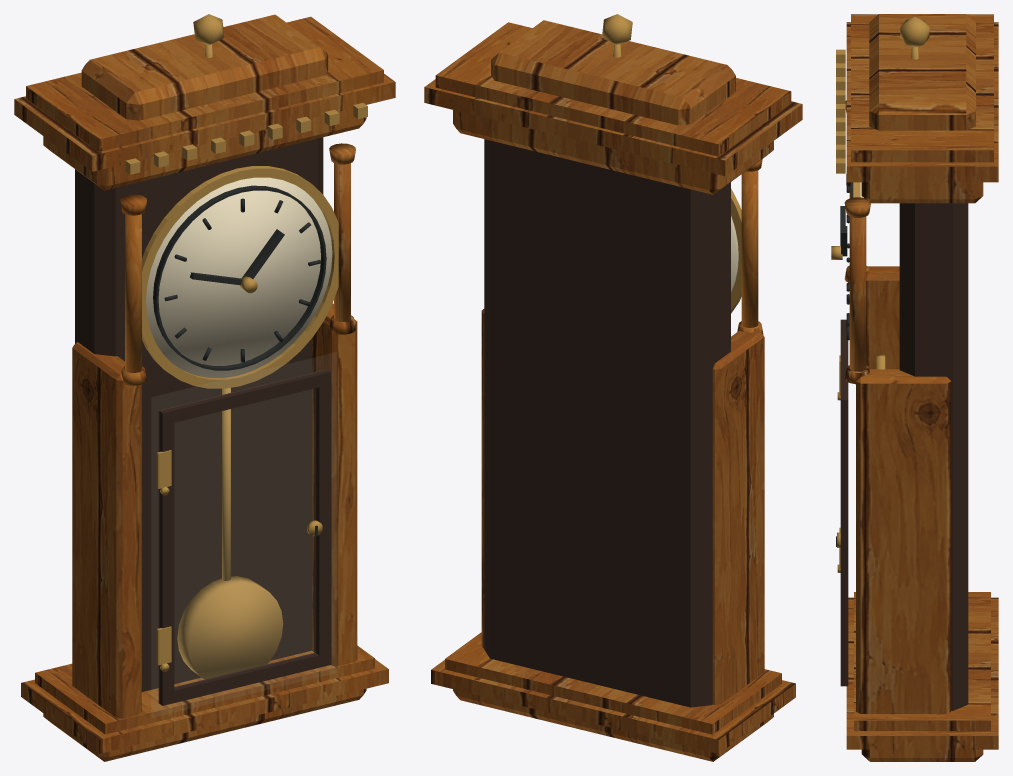
3 views of the same model, side by side, from view 1: azimuth 30°, elevation 25°; view 2: azimuth 150°, elevation 25°; view 3: azimuth 270°, elevation 25° (orthographic). The views are drawn at different scales.
Parts seen in each view (by area): view 1: clockshop_walnut, clockshop_darkwood, clockshop_walnut.001, clockshop_ivory, clockshop_brass, clockshop_darkwood.001, clockshop_ink, clockshop_brass.001; view 2: clockshop_darkwood, clockshop_walnut, clockshop_walnut.001, clockshop_brass.001, clockshop_brass; view 3: clockshop_walnut, clockshop_walnut.001, clockshop_darkwood, clockshop_darkwood.001, clockshop_brass.001, clockshop_ink, clockshop_brass.
Part boxes in pixels (<box>): clockshop_walnut: <box>43,14,366,761</box>; clockshop_darkwood: <box>75,137,323,691</box>; clockshop_walnut.001: <box>14,16,395,753</box>; clockshop_ivory: <box>146,177,332,377</box>; clockshop_brass: <box>142,166,338,679</box>; clockshop_darkwood.001: <box>158,369,330,705</box>; clockshop_ink: <box>153,185,326,370</box>; clockshop_brass.001: <box>114,14,367,758</box>; clockshop_darkwood: <box>484,139,730,707</box>; clockshop_walnut: <box>453,20,773,761</box>; clockshop_walnut.001: <box>424,22,802,753</box>; clockshop_brass.001: <box>471,14,702,758</box>; clockshop_brass: <box>731,188,741,313</box>; clockshop_walnut: <box>856,14,983,761</box>; clockshop_walnut.001: <box>844,14,998,749</box>; clockshop_darkwood: <box>899,203,968,710</box>; clockshop_darkwood.001: <box>840,319,848,686</box>; clockshop_brass.001: <box>836,17,929,572</box>; clockshop_ink: <box>840,174,853,340</box>; clockshop_brass: <box>831,182,885,369</box>.
Bounding box in the file's own units: 0.9 × 1.99 × 0.44.
6 materials, 1 textured.
